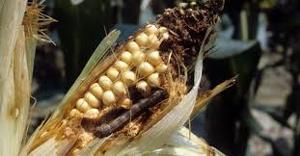fallarmy_worm: (89, 89, 181, 139)
